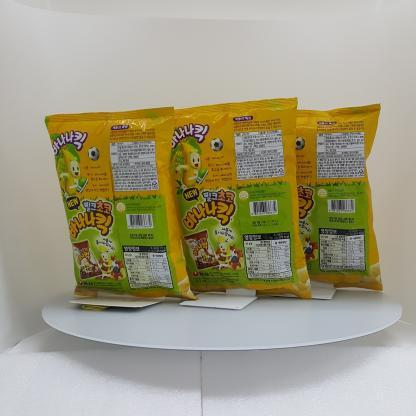Plastic Packaging: (39, 90, 187, 314), (168, 98, 310, 298), (292, 103, 384, 293)
